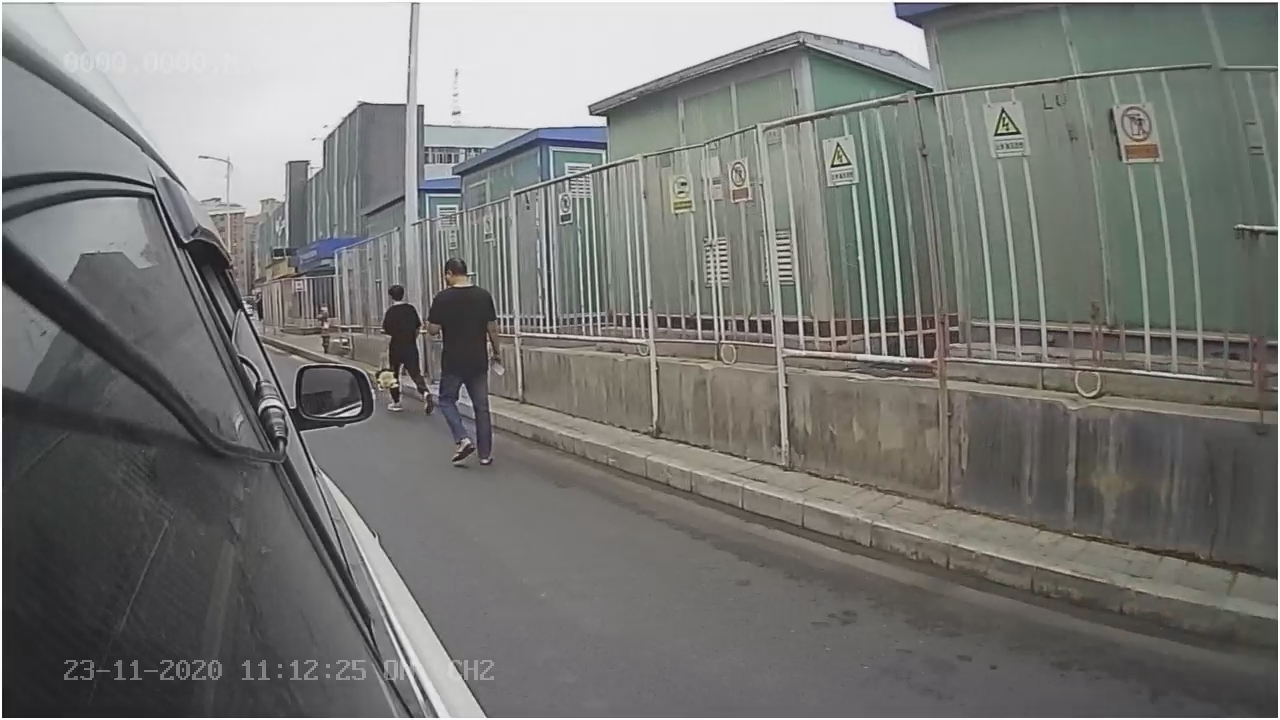person: (430, 260, 511, 470)
